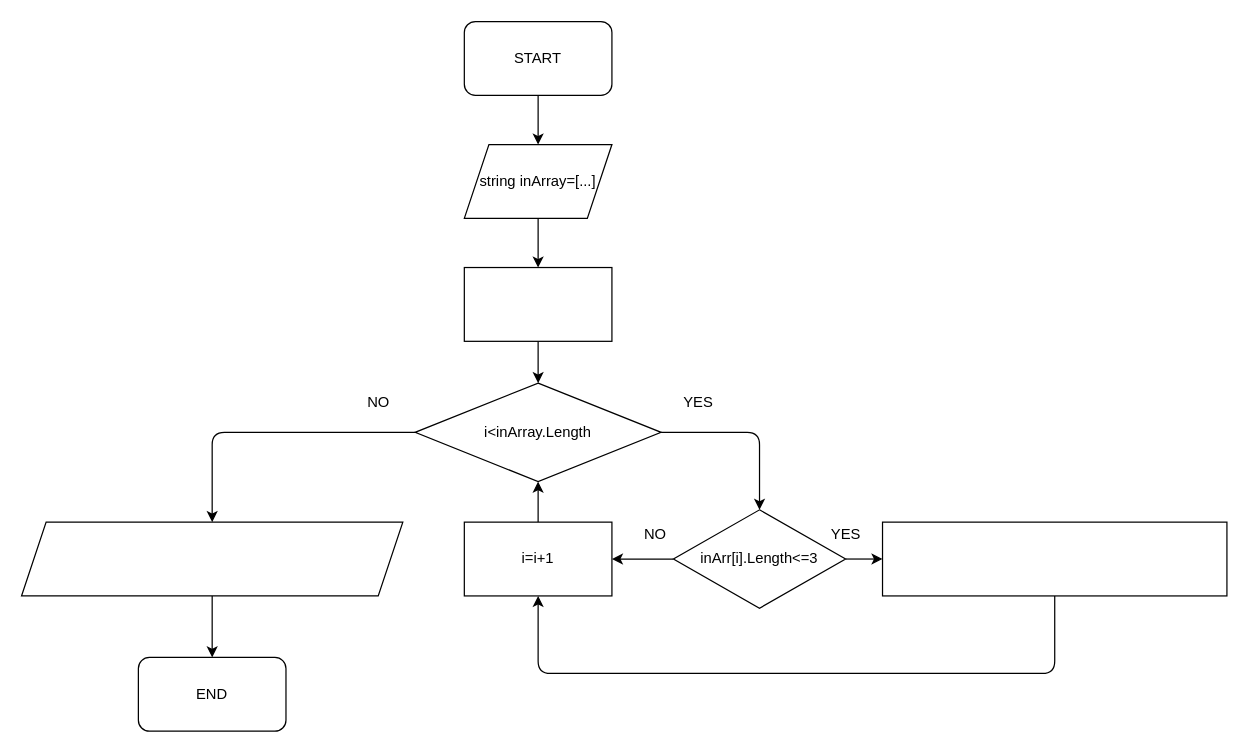
This 1248x753 diagram has some shape labels left out. The shapes that lost their labels are listed below. From the top down, each one's centre as x and y in pixels, then its label:
(537,303): int i = 0 string outArray = []
(211,558): Console.WriteLine($"[{string.Join(",", inArr)}]=>[{string.Join(",", outArr)}]")
(1054,558): Array.Resize(ref outArr, outArr.Length+1) outArr[outArr.Length-1]=inArr[i]
